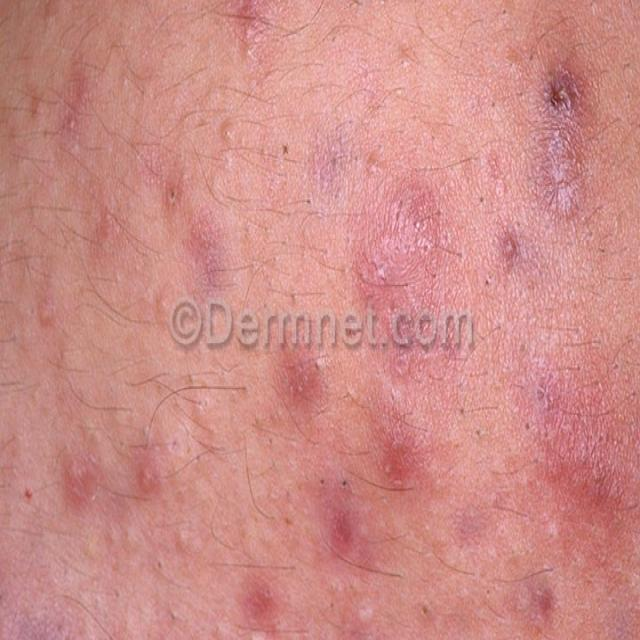acne: (521, 34, 601, 252), (319, 476, 382, 586), (40, 442, 114, 525), (380, 398, 440, 500), (222, 566, 292, 618), (282, 355, 336, 418), (120, 436, 170, 498)
